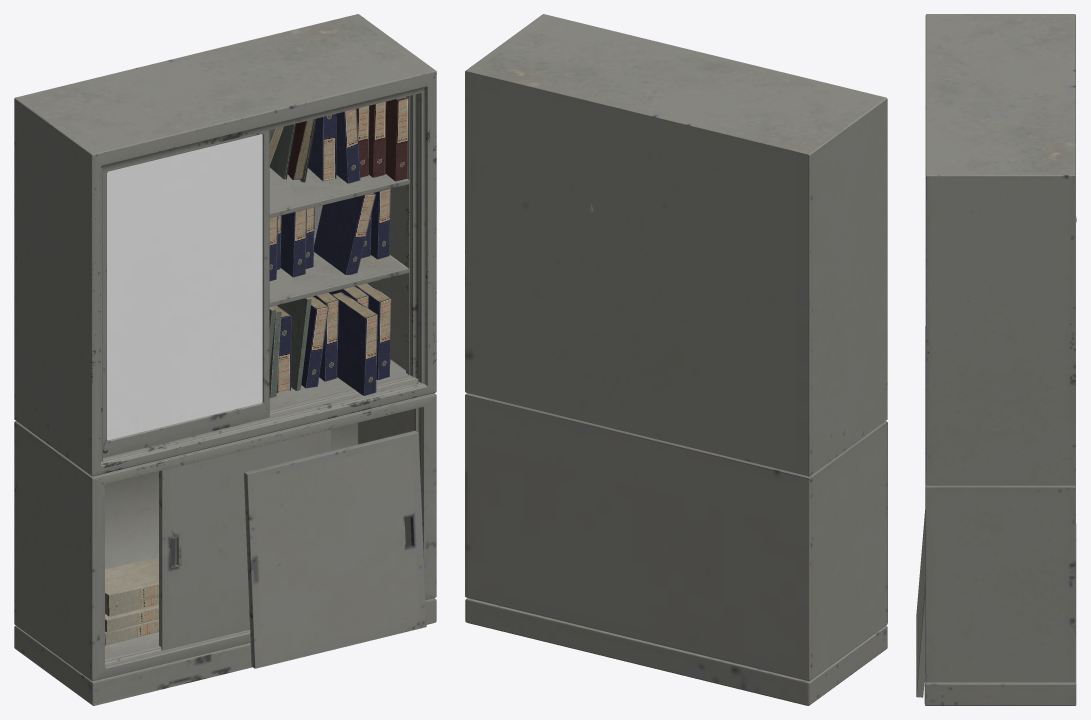
Rendered from sm39_007_bookandcabinet01a.fbx.
The picture shows the model from 3 angles, left to right: view 1: azimuth 30°, elevation 25°; view 2: azimuth 150°, elevation 25°; view 3: azimuth 270°, elevation 25°; orthographic projection. The views are drawn at different scales.
Parts seen in each view (by area): view 1: LOD_1_Group_0_Sub_1__sm30_027_OfficeCabinet02A_A_Mat1, LOD_1_Group_0_Sub_2__sm30_027_OfficeCabinet02A_B_Mat1, LOD_1_Group_0_Sub_3__sm36_007_PaperWork01A_A_Mat; view 2: LOD_1_Group_0_Sub_1__sm30_027_OfficeCabinet02A_A_Mat1; view 3: LOD_1_Group_0_Sub_1__sm30_027_OfficeCabinet02A_A_Mat1.
Boxes of the visible parts, bbox=[...] form: LOD_1_Group_0_Sub_1__sm30_027_OfficeCabinet02A_A_Mat1: bbox=[14, 14, 436, 705]; LOD_1_Group_0_Sub_2__sm30_027_OfficeCabinet02A_B_Mat1: bbox=[107, 134, 262, 440]; LOD_1_Group_0_Sub_3__sm36_007_PaperWork01A_A_Mat: bbox=[105, 96, 408, 645]; LOD_1_Group_0_Sub_1__sm30_027_OfficeCabinet02A_A_Mat1: bbox=[465, 14, 887, 705]; LOD_1_Group_0_Sub_1__sm30_027_OfficeCabinet02A_A_Mat1: bbox=[916, 14, 1076, 705].
Size of the model in its own units: 1.48 by 2.26 by 0.619.
